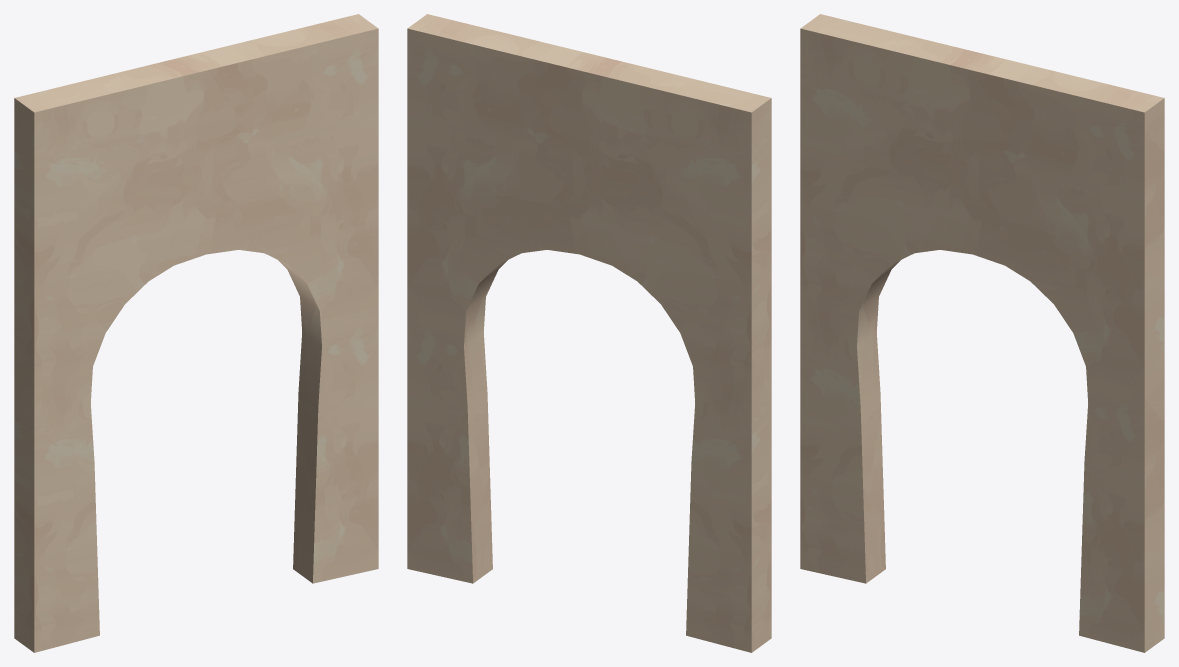
The model's file is parede_porta.fbx.
3 renders of one model, left to right at view 1: azimuth 30°, elevation 25°; view 2: azimuth 150°, elevation 25°; view 3: azimuth 330°, elevation 25°, orthographic.
Visible parts, largest first — view 1: parede_porta.001; view 2: parede_porta.001; view 3: parede_porta.001.
Boxes of the visible parts, x1,y1,x2,y2 form: parede_porta.001: (14,14,378,652); parede_porta.001: (407,14,771,652); parede_porta.001: (800,14,1164,652).
Size of the model in its own units: 200 by 300 by 20.
